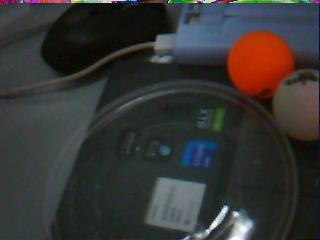oball: (227, 33, 287, 95)
